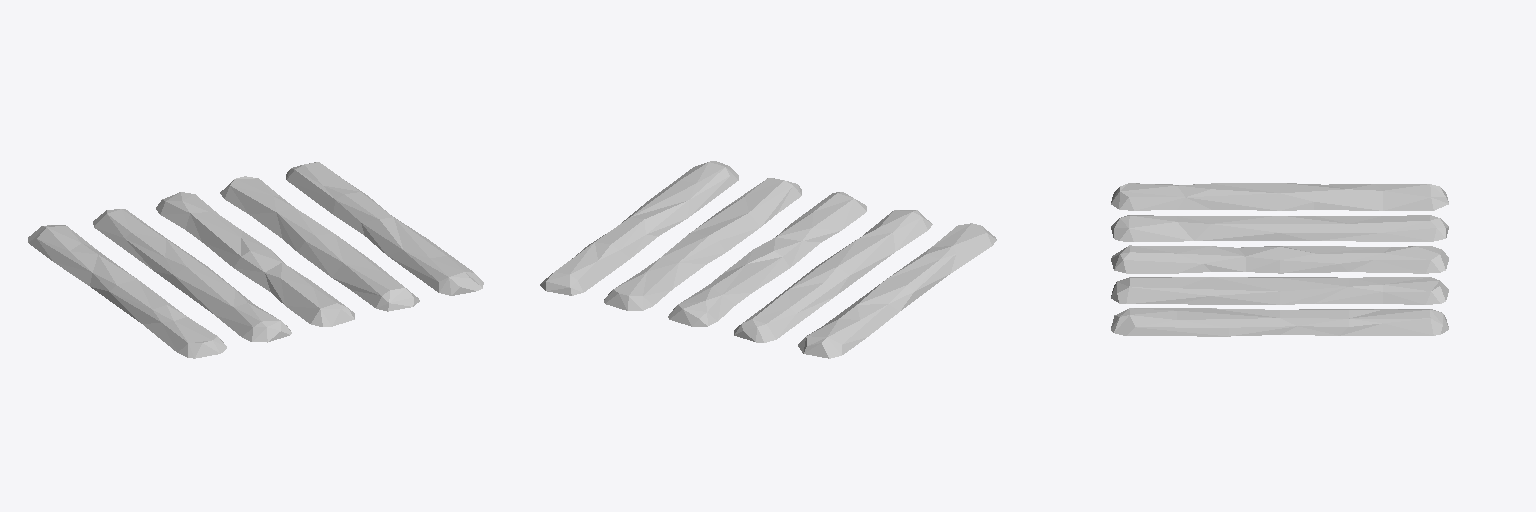
File: SM_Env_Dirt_Rows_Mounds_01.obj
The picture shows the model from 3 angles: view 1: azimuth 30°, elevation 25°; view 2: azimuth 150°, elevation 25°; view 3: azimuth 270°, elevation 25°; orthographic projection.
Size of the model in its own units: 473 by 20.09 by 458.